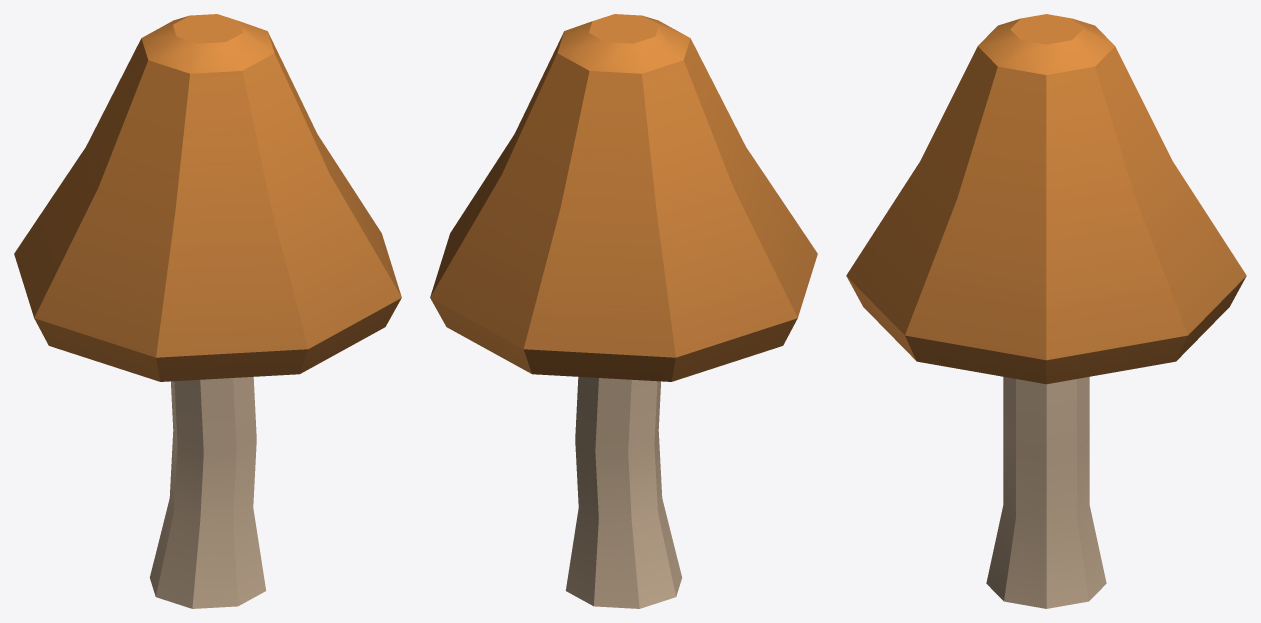
Rendered from Spring_Mushroom_01.glb.
The picture shows the model from 3 angles, left to right: view 1: azimuth 30°, elevation 25°; view 2: azimuth 150°, elevation 25°; view 3: azimuth 270°, elevation 25°; orthographic projection.
Visible parts, largest first — view 1: Spring_Mushroom_01_LOD0; view 2: Spring_Mushroom_01_LOD0; view 3: Spring_Mushroom_01_LOD0.
Boxes of the visible parts, box(x1,y1,x2,y2) form: Spring_Mushroom_01_LOD0: box(14, 14, 401, 608); Spring_Mushroom_01_LOD0: box(430, 14, 817, 608); Spring_Mushroom_01_LOD0: box(846, 14, 1246, 608).
Size of what is drawn, in the model's own units: 0.1725 by 0.2633 by 0.1725.
1 material, 1 textured.
